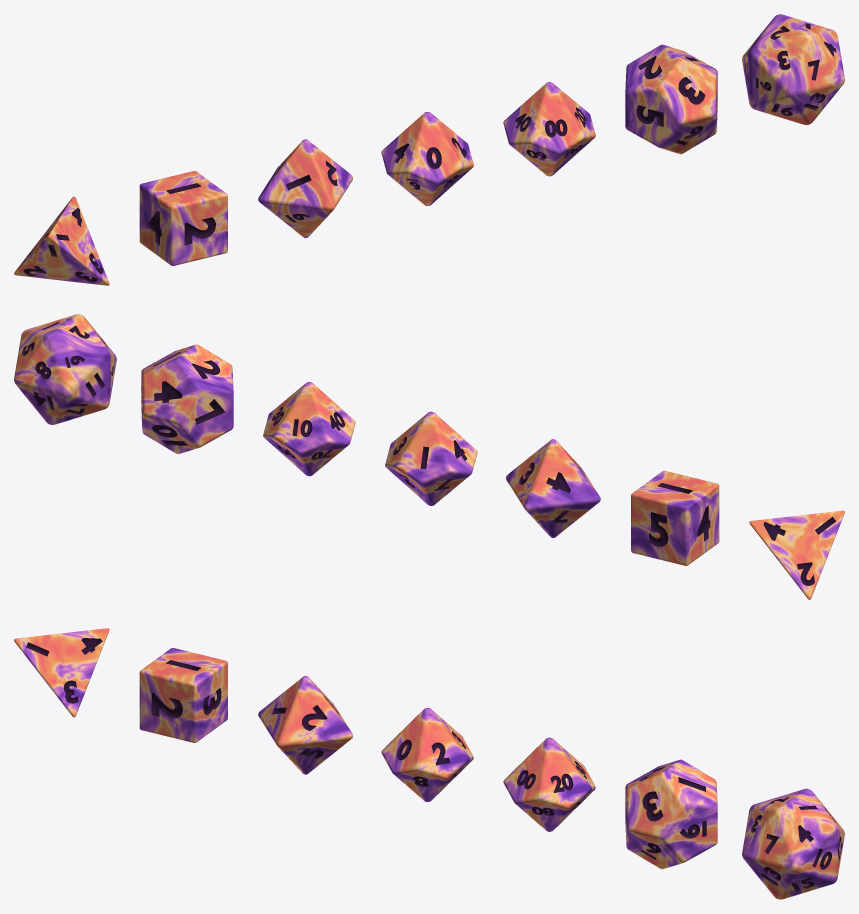
Rendered from sunset-swirl.glb.
3 views of the same model, one above another, from view 1: azimuth 30°, elevation 25°; view 2: azimuth 150°, elevation 25°; view 3: azimuth 330°, elevation 25° (orthographic).
Parts seen in each view (by area): view 1: d20, d12, d6, d100, d10, d8, d4; view 2: d20, d12, d6, d100, d10, d8, d4; view 3: d20, d12, d6, d8, d10, d100, d4.
Boxes of the visible parts, <box> form: d20: <box>742,14,844,125</box>; d12: <box>625,44,717,154</box>; d6: <box>139,171,227,265</box>; d100: <box>503,82,595,176</box>; d10: <box>381,111,473,205</box>; d8: <box>258,139,352,238</box>; d4: <box>14,196,109,285</box>; d20: <box>14,314,116,424</box>; d12: <box>141,344,233,453</box>; d6: <box>631,470,719,565</box>; d100: <box>263,382,355,476</box>; d10: <box>385,411,477,505</box>; d8: <box>506,439,600,537</box>; d4: <box>749,510,844,599</box>; d20: <box>742,788,844,899</box>; d12: <box>625,759,717,869</box>; d6: <box>139,648,227,742</box>; d8: <box>258,675,352,774</box>; d10: <box>381,708,473,802</box>; d100: <box>503,737,595,831</box>; d4: <box>14,628,109,717</box>.
Bounding box in the file's own units: 21.14 × 2.46 × 2.46.
Materials: 14 (7 with a texture image).
